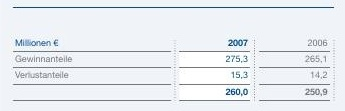table: (0, 0, 345, 111)
